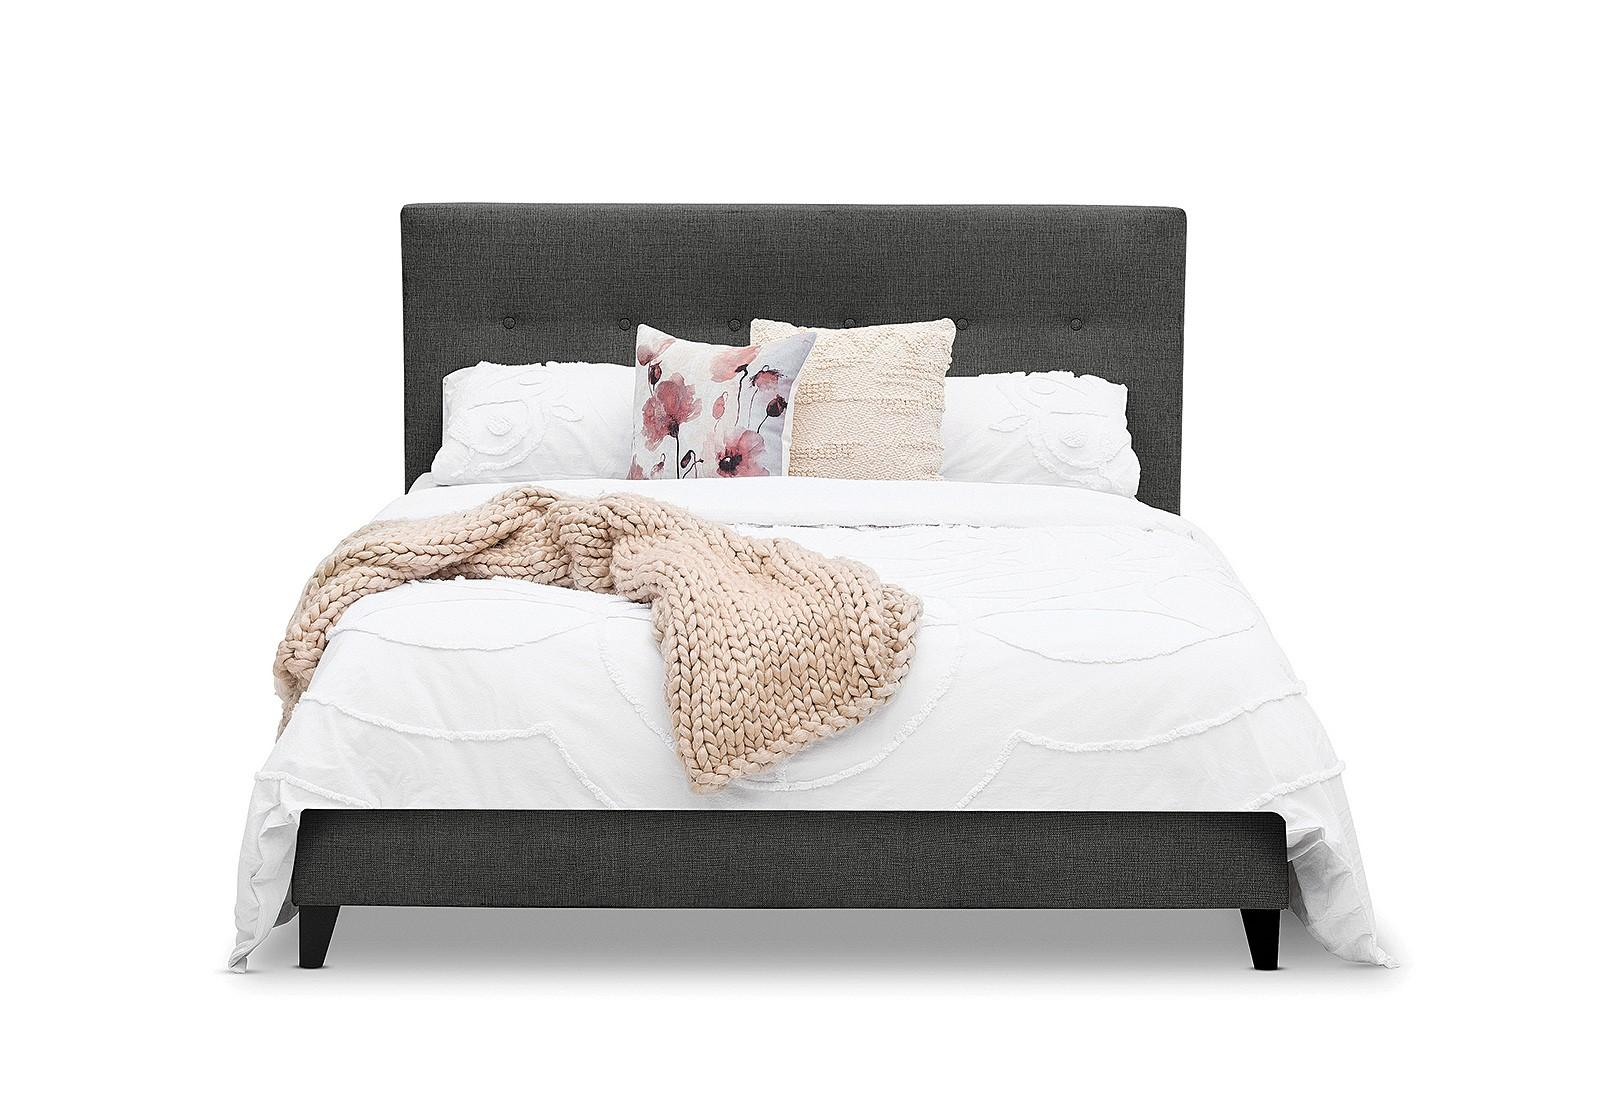bed: (213, 195, 1368, 918)
